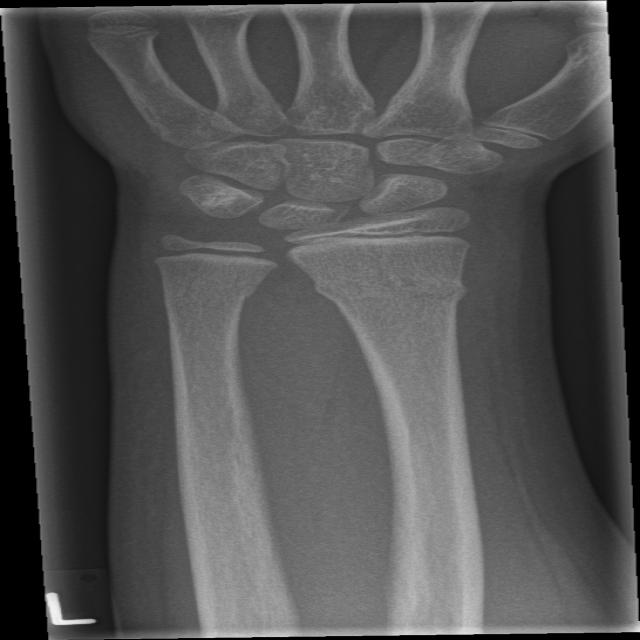radius fracture: (277, 262, 507, 342)
